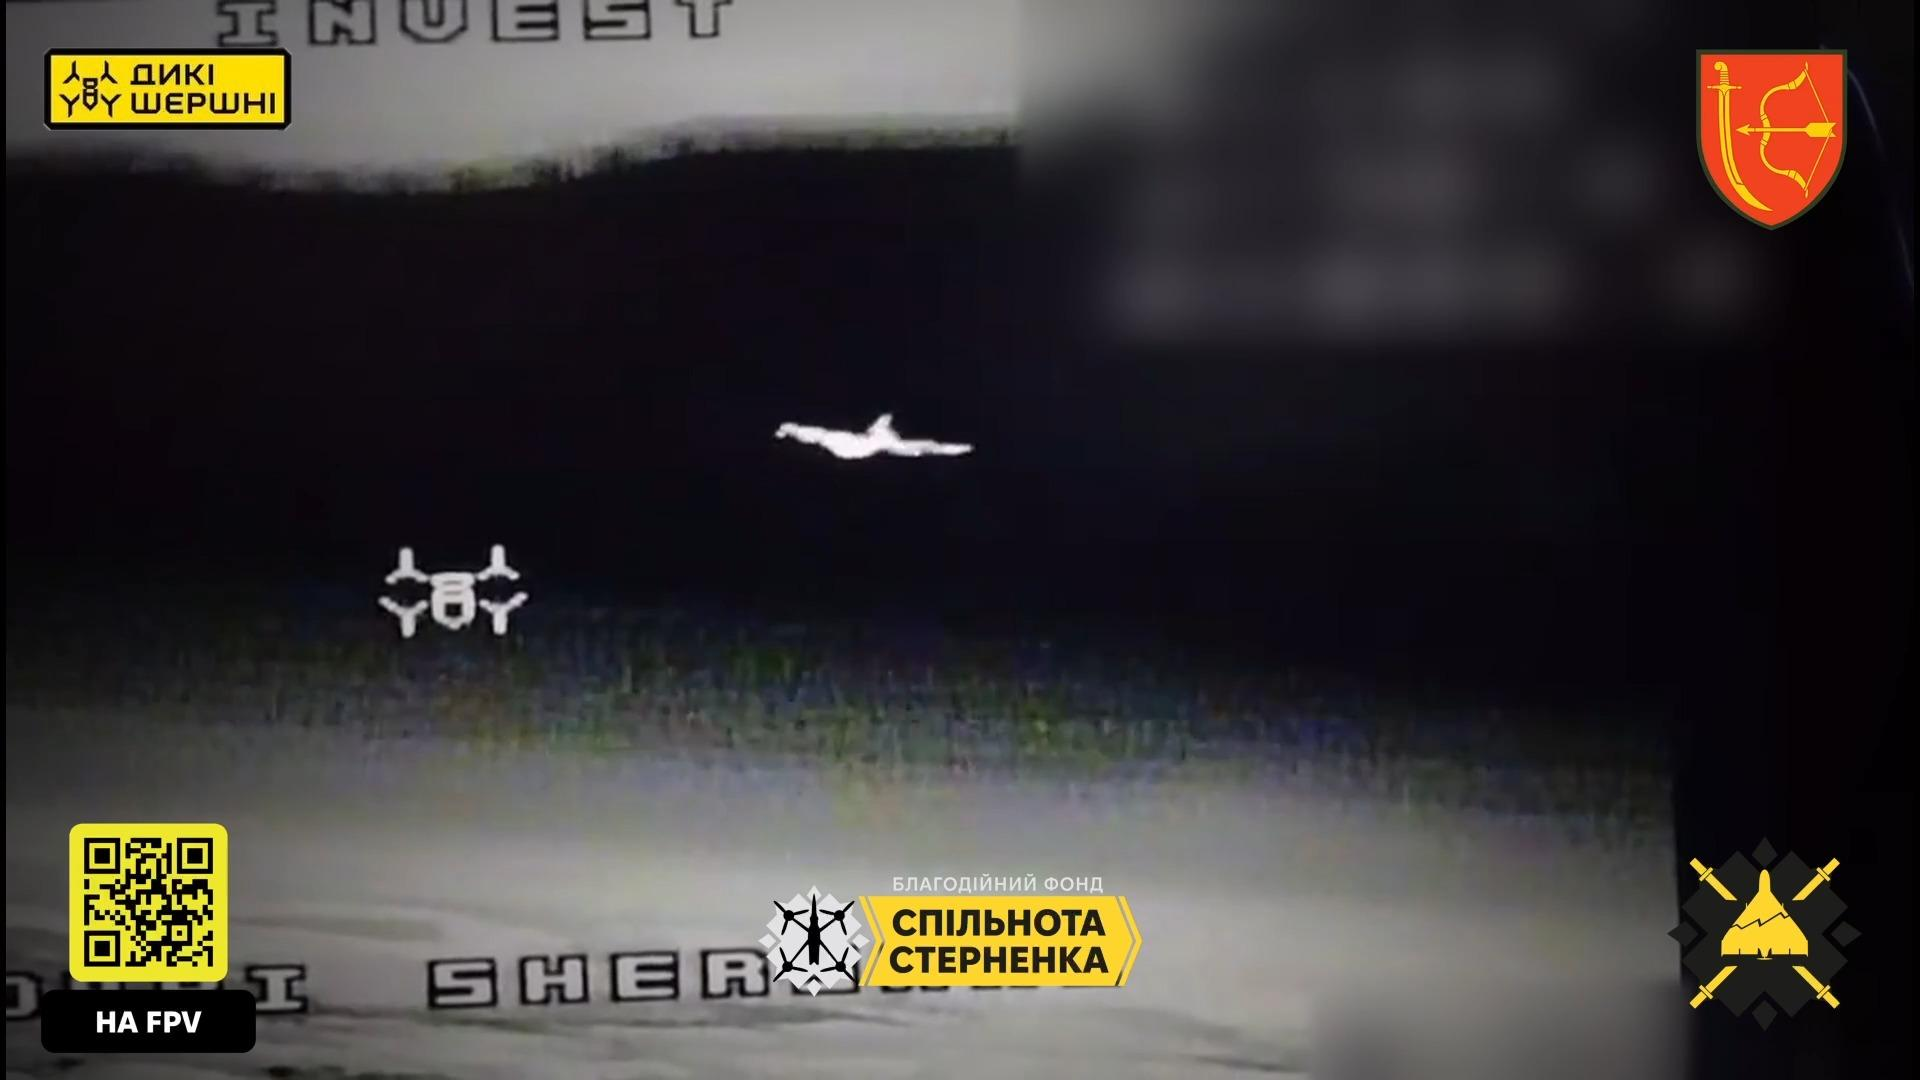Gerbera: (775, 410, 977, 460)
